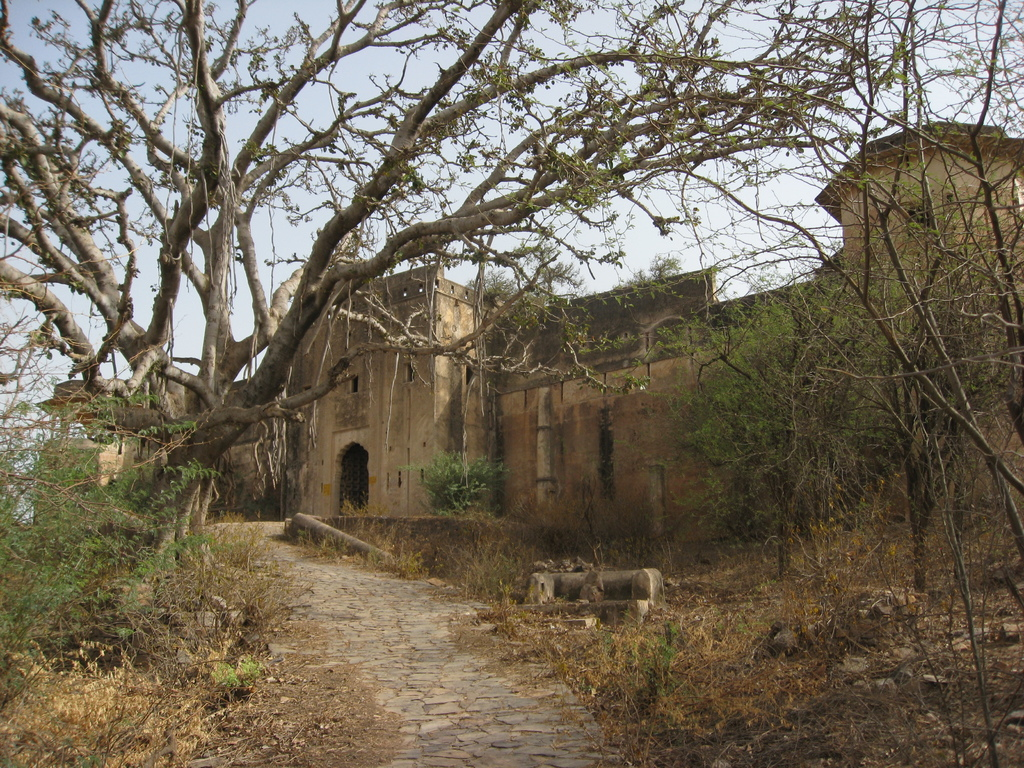Tree: (0, 0, 917, 579), (640, 0, 1023, 767)
